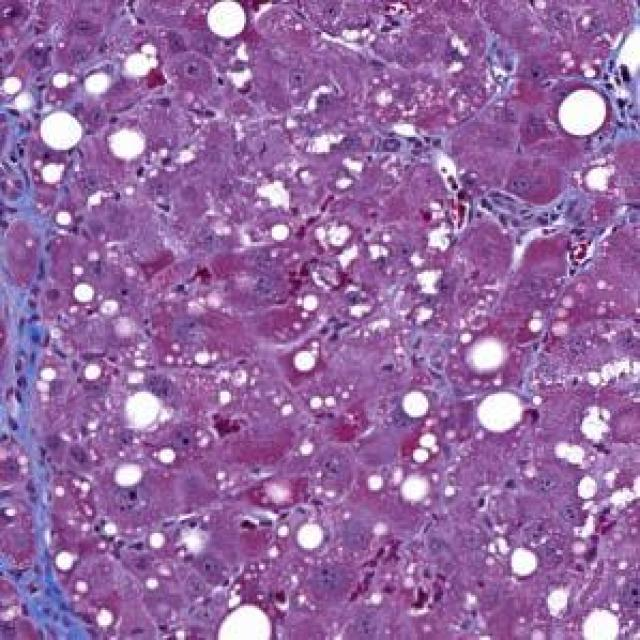fibrosis: (9, 156, 77, 640)
